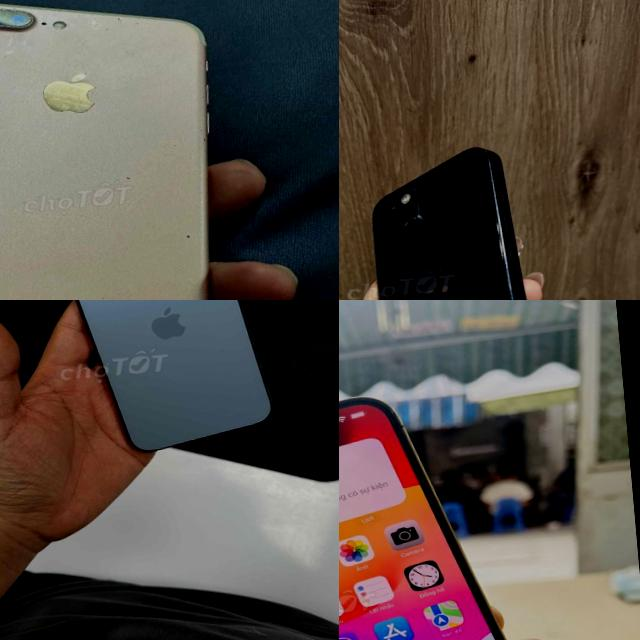scratch: (0, 0, 40, 42), (87, 10, 141, 36), (169, 123, 211, 148), (118, 172, 140, 185), (182, 230, 200, 242)
